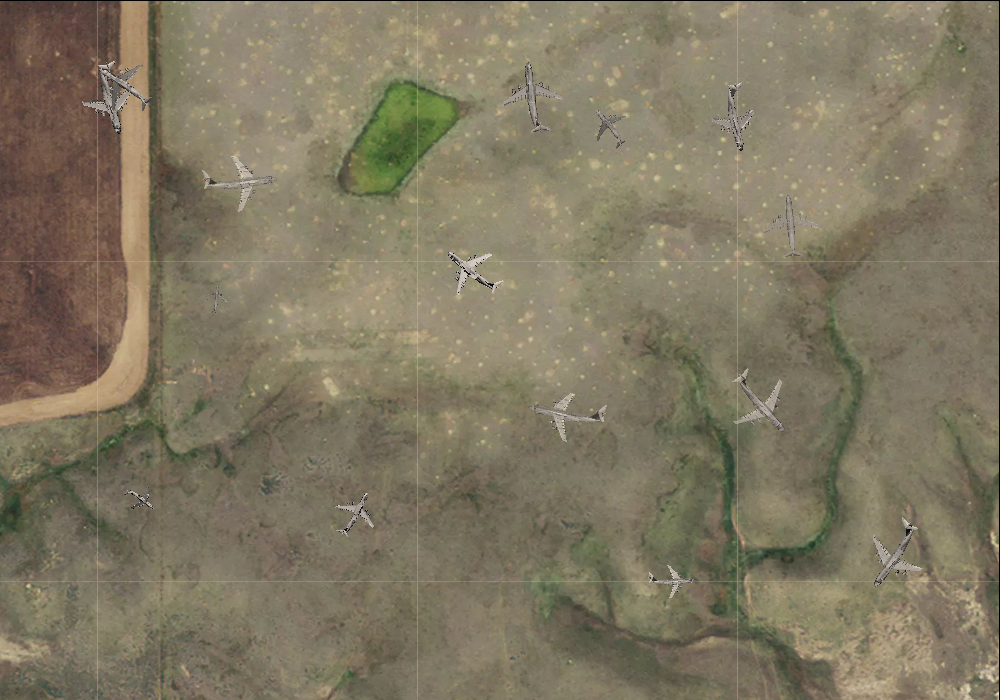plane: (710, 351, 812, 454), (844, 504, 943, 605), (69, 52, 153, 142), (522, 370, 613, 452), (430, 227, 516, 313), (82, 45, 165, 127), (197, 141, 280, 218), (496, 57, 572, 137), (701, 76, 773, 156), (321, 481, 387, 547), (758, 192, 822, 260), (578, 96, 639, 157), (646, 557, 696, 601), (117, 477, 162, 522), (200, 284, 229, 314)
